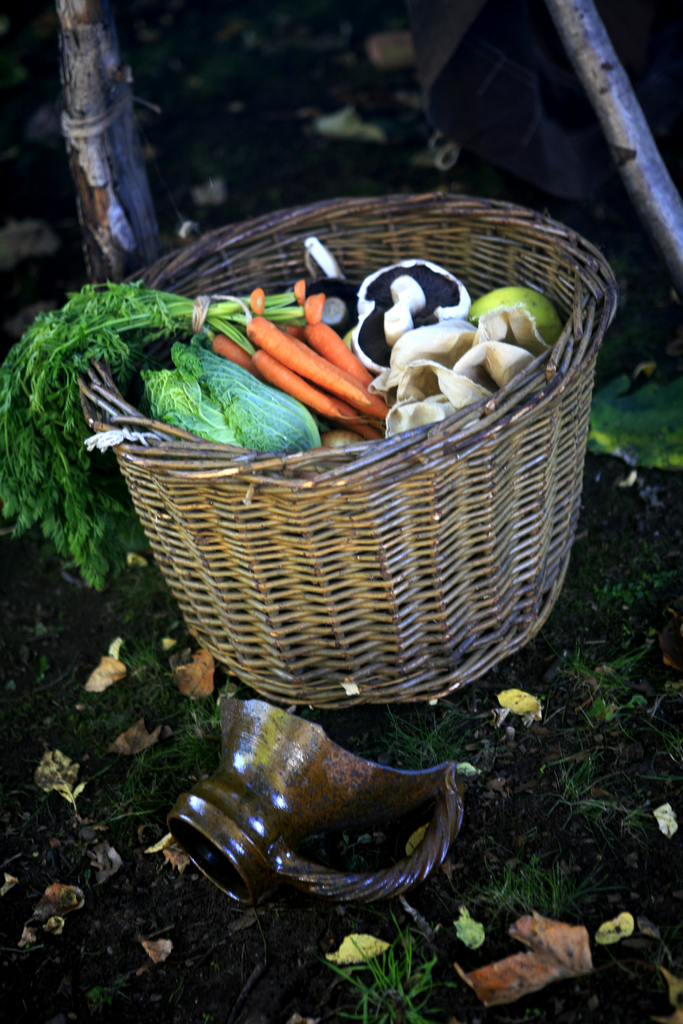Carrot: (242, 304, 384, 406)
